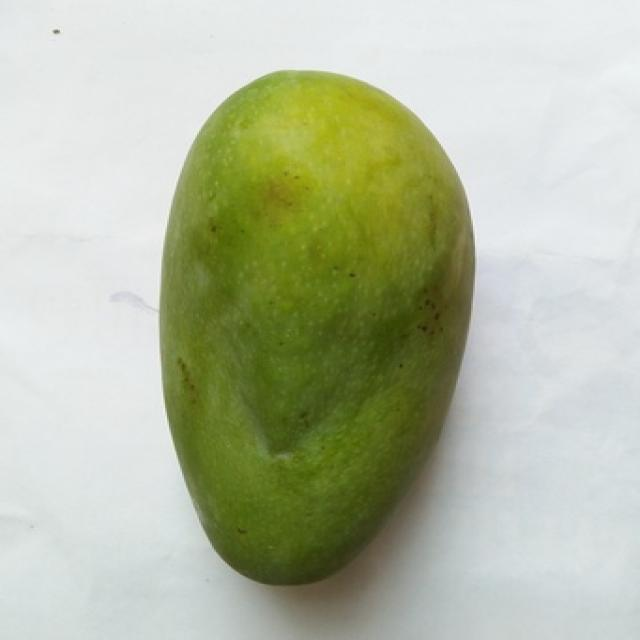Mango: (161, 71, 473, 584)
